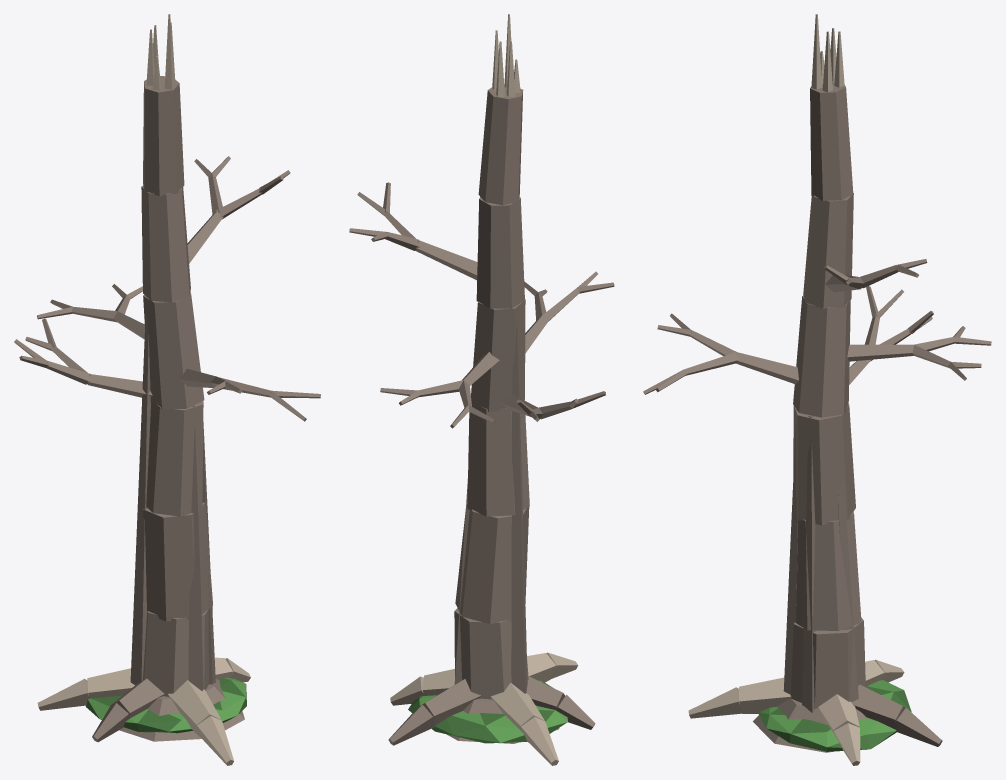
The model's file is tree_snag_b.glb.
3 renders of one model, left to right at view 1: azimuth 30°, elevation 25°; view 2: azimuth 150°, elevation 25°; view 3: azimuth 270°, elevation 25°, orthographic.
Parts seen in each view (by area): view 1: TreeSnagB; view 2: TreeSnagB; view 3: TreeSnagB.
Boxes of the visible parts, x1,y1,x2,y2 form: TreeSnagB: (14, 14, 320, 765); TreeSnagB: (349, 14, 614, 765); TreeSnagB: (643, 14, 991, 765).
Bounding box in the file's own units: 3.04 × 7.86 × 3.52.
